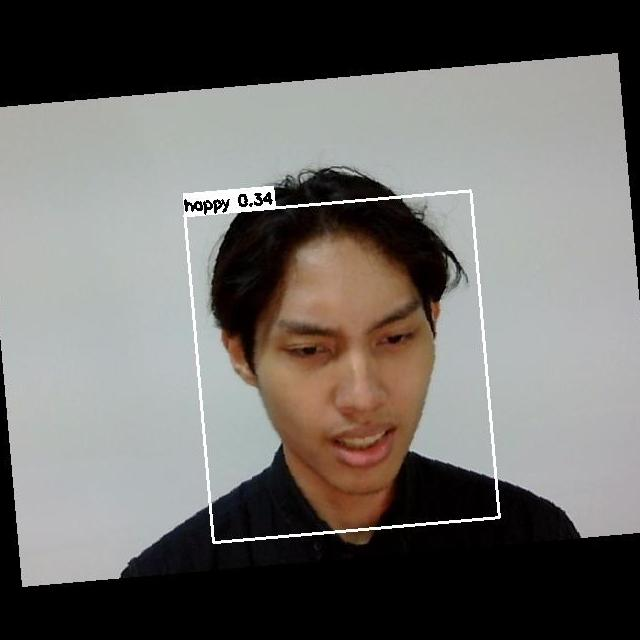Fear: (231, 285, 460, 474)
